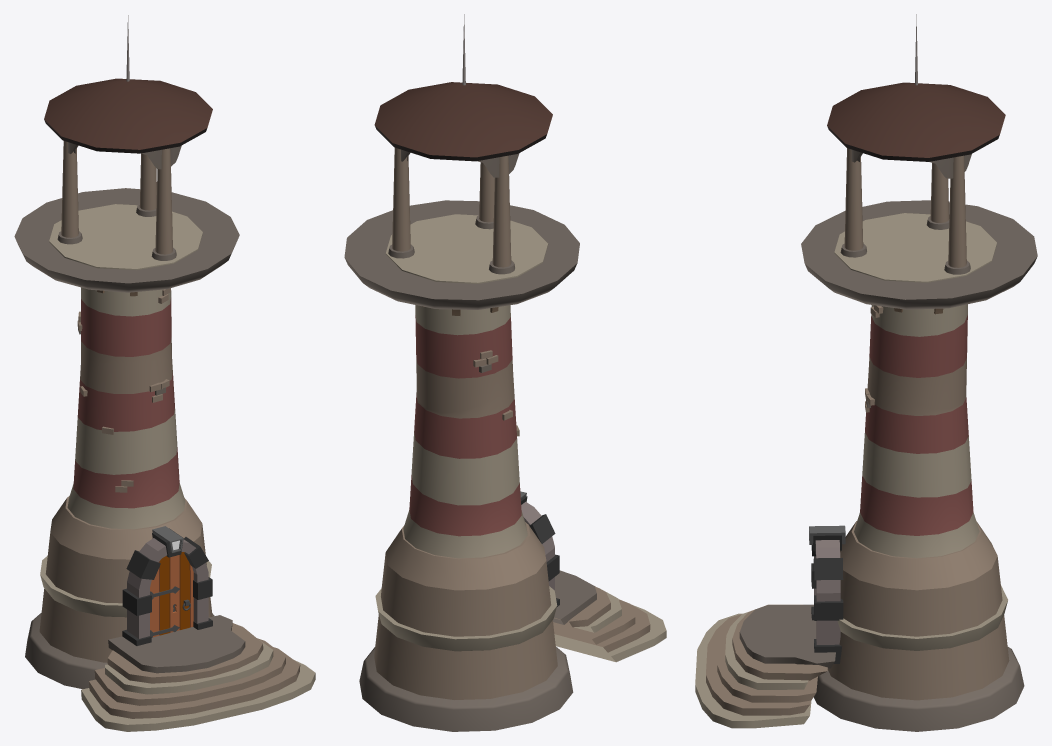
File: LIGHTHOUSE 2 .fbx
3 renders of one model, left to right at view 1: azimuth 30°, elevation 25°; view 2: azimuth 150°, elevation 25°; view 3: azimuth 270°, elevation 25°, orthographic. The views are drawn at different scales.
Parts seen in each view (by area): view 1: polySurface8735, polySurface8762.001, polySurface7463, polySurface8550, Cube.011_Cube.005, pCylinder211, pCylinder212, pCylinder216, pCylinder214, polySurface8669; view 2: polySurface8735, polySurface7463, polySurface8550, pCylinder211, polySurface8762.001, pCylinder216, pCylinder214, Cube.011_Cube.005, pCylinder212; view 3: polySurface8735, polySurface8762.001, polySurface7463, polySurface8550, pCylinder211, Cube.011_Cube.005, pCylinder214, pCylinder212, pCylinder216.
Part boxes in pixels (x1,y1,x2,y2): polySurface8735: (25, 287, 214, 689); polySurface8762.001: (81, 615, 315, 731); polySurface7463: (44, 15, 212, 153); polySurface8550: (14, 188, 239, 296); Cube.011_Cube.005: (122, 526, 212, 645); pCylinder211: (49, 204, 202, 270); pCylinder212: (151, 148, 176, 260); pCylinder216: (57, 141, 82, 244); pCylinder214: (136, 153, 156, 216); polySurface8669: (77, 288, 170, 492); polySurface8735: (359, 305, 573, 731); polySurface7463: (374, 14, 552, 161); polySurface8550: (344, 200, 579, 315); pCylinder211: (385, 214, 548, 283); polySurface8762.001: (553, 570, 666, 662); pCylinder216: (489, 155, 514, 274); pCylinder214: (388, 147, 414, 258); Cube.011_Cube.005: (520, 491, 559, 606); pCylinder212: (475, 162, 494, 229); polySurface8735: (813, 304, 1024, 731); polySurface8762.001: (695, 604, 835, 728); polySurface7463: (827, 14, 1005, 161); polySurface8550: (801, 200, 1037, 314); pCylinder211: (834, 213, 996, 282); Cube.011_Cube.005: (809, 525, 845, 663); pCylinder214: (944, 155, 970, 274); pCylinder212: (840, 148, 866, 257); pCylinder216: (926, 163, 949, 229).
Bounding box in the file's own units: 1766 × 5176 × 2386.
